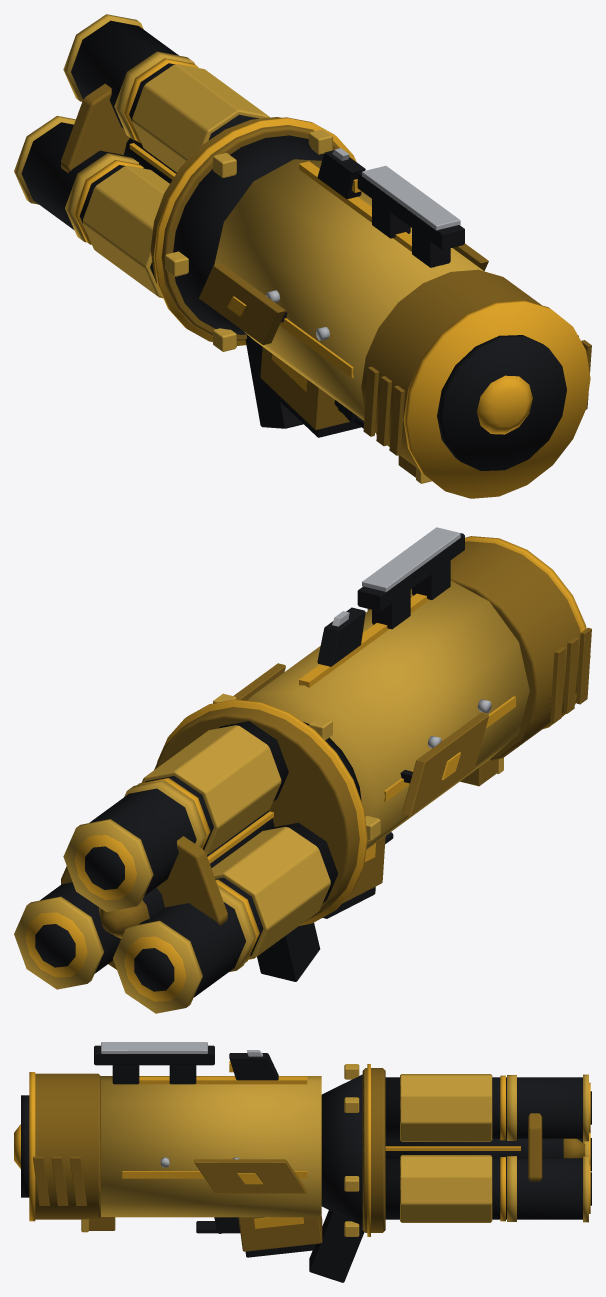
Rendered from weapon_bazooka_lvl3.glb.
3 views of the same model, one above another, from view 1: azimuth 30°, elevation 25°; view 2: azimuth 150°, elevation 25°; view 3: azimuth 270°, elevation 25° (orthographic). The views are drawn at different scales.
Parts seen in each view (by area): view 1: weapon_bazooka_lvl3, barrels; view 2: weapon_bazooka_lvl3, barrels; view 3: weapon_bazooka_lvl3, barrels.
Boxes of the visible parts, x1,y1,x2,y2 form: weapon_bazooka_lvl3: (153, 117, 591, 498); barrels: (14, 14, 339, 341); weapon_bazooka_lvl3: (157, 527, 591, 981); barrels: (14, 707, 359, 1013); weapon_bazooka_lvl3: (14, 1042, 370, 1282); barrels: (362, 1068, 591, 1232).
Size of the model in its own units: 0.5 by 0.7168 by 1.62.
